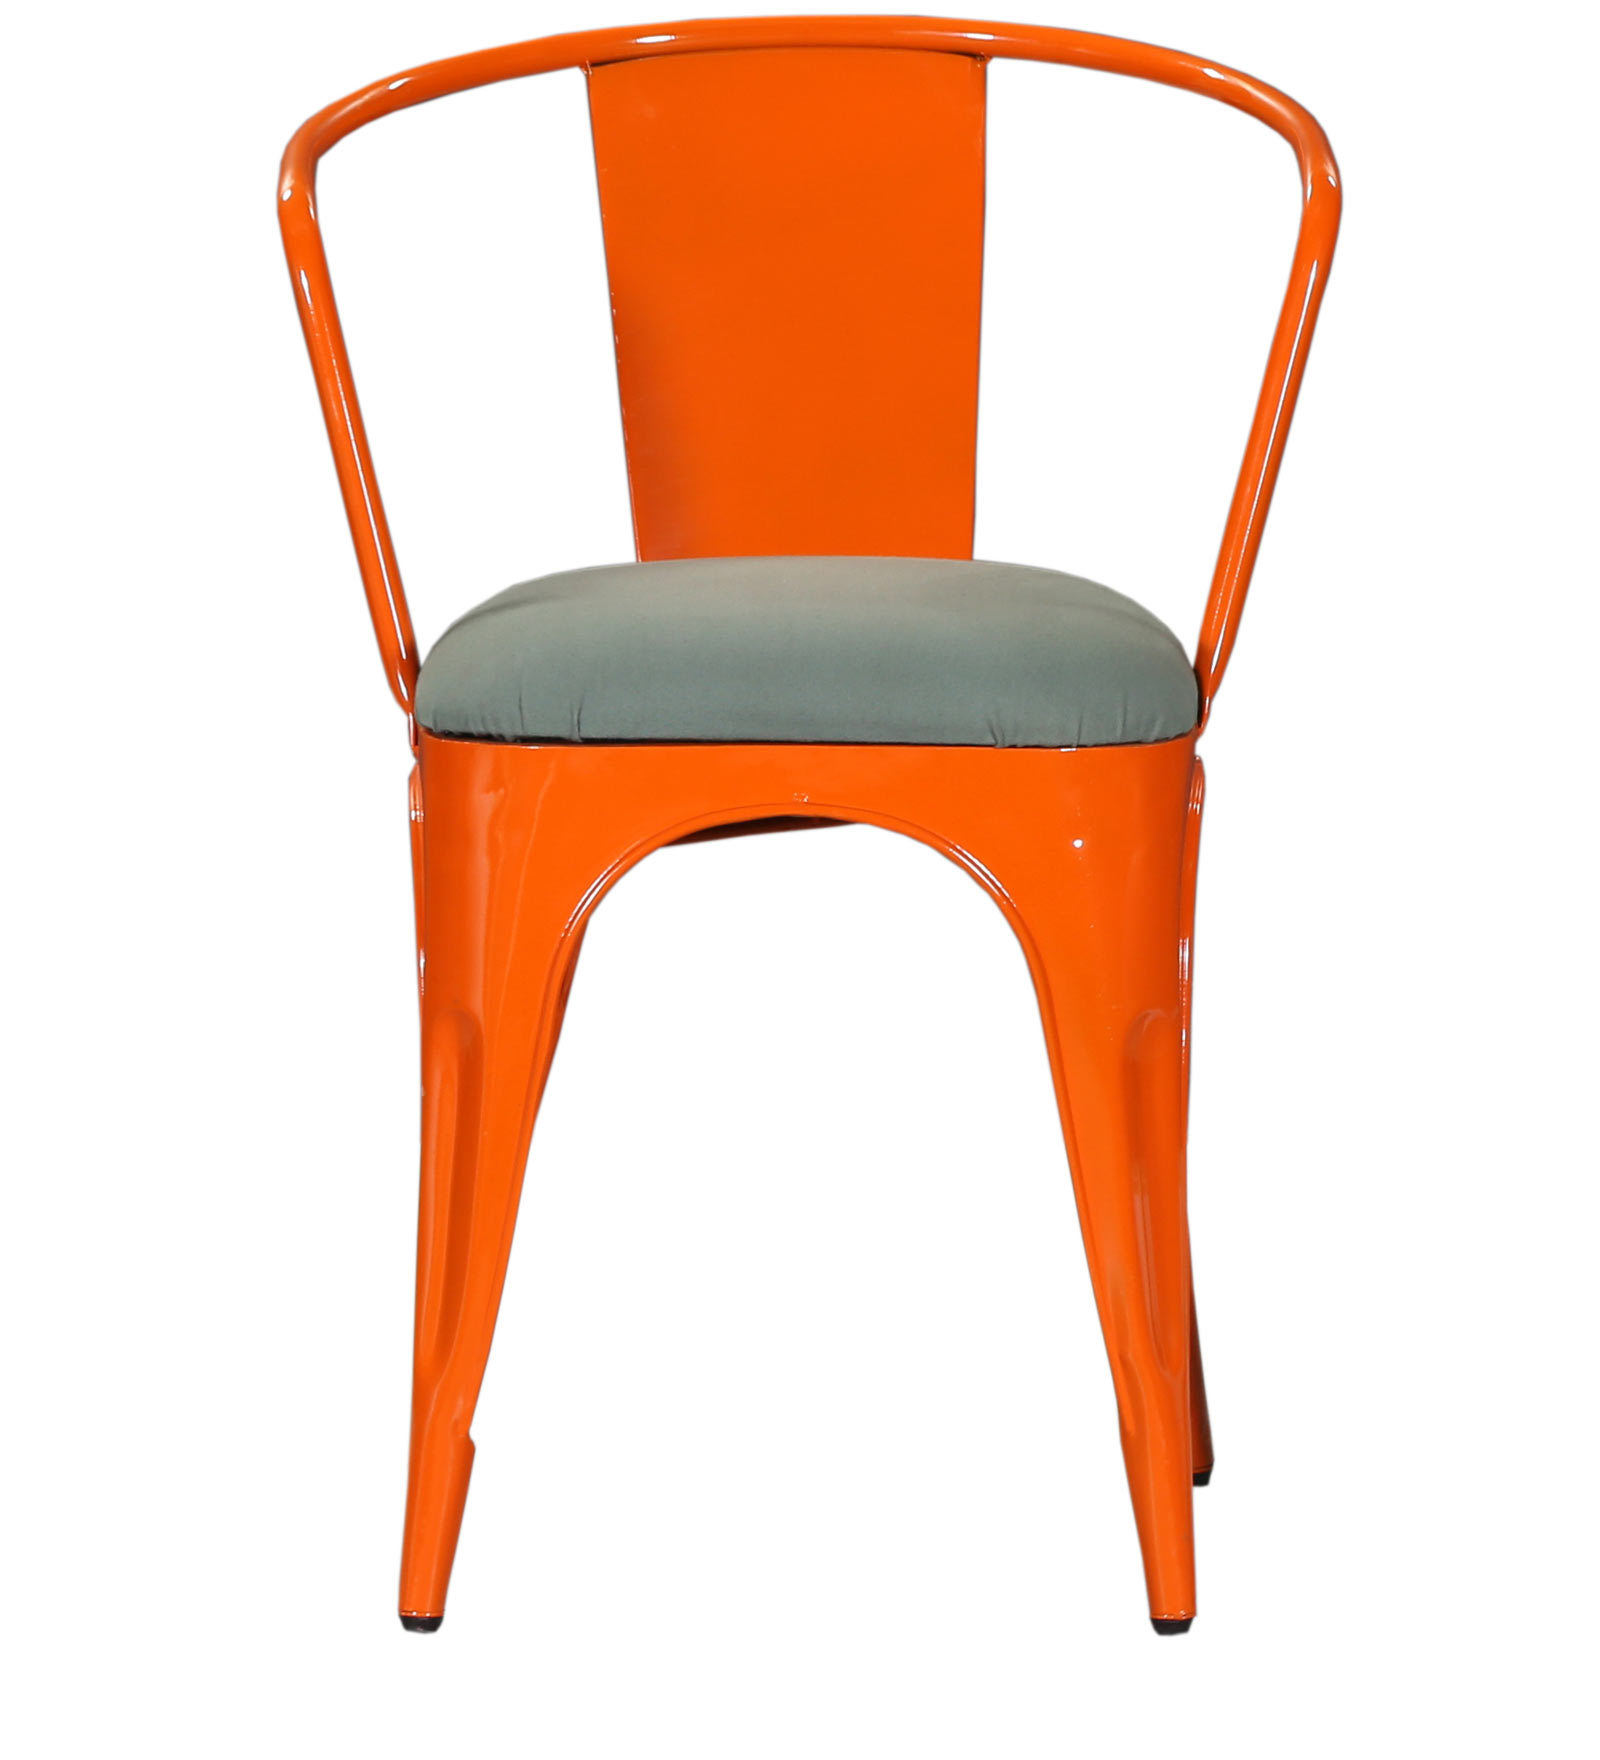Danlou Metal Chair with Cushion In Orange Colour by Bohemiana: (218, 8, 1366, 1671)
